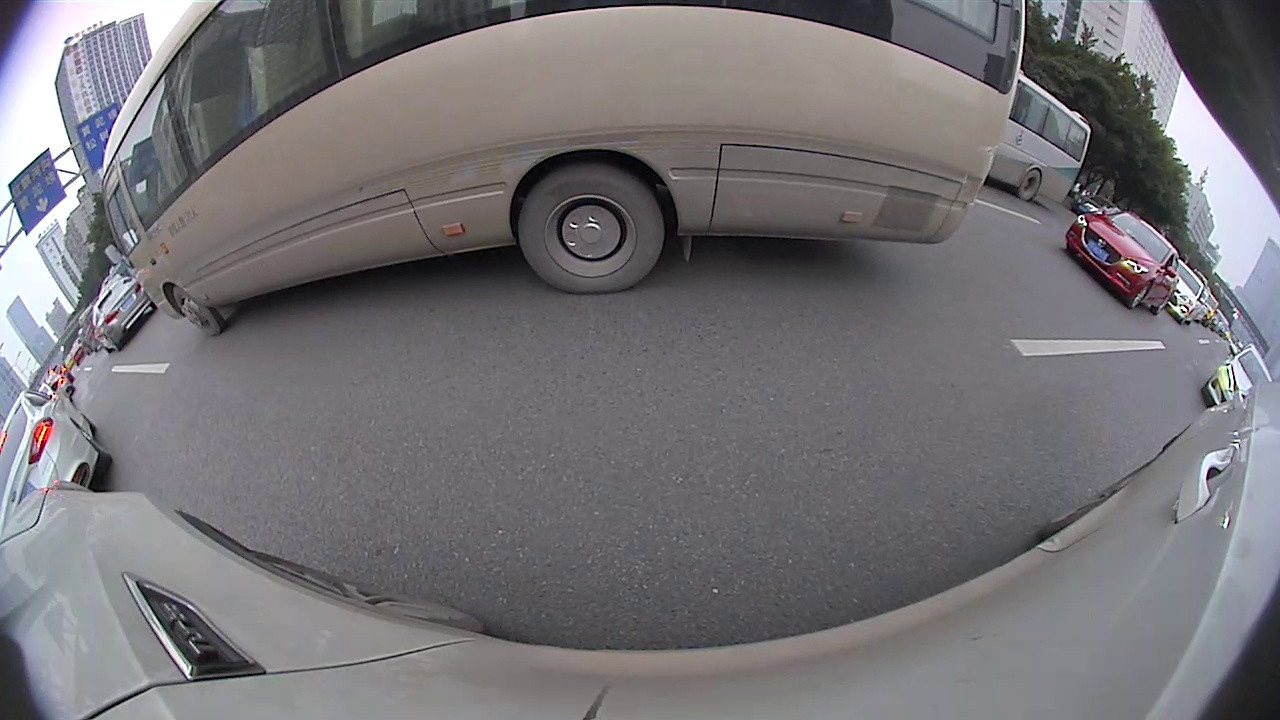bus: (97, 1, 1027, 341), (978, 79, 1089, 209)
car: (2, 390, 109, 527), (1067, 206, 1178, 317), (1206, 346, 1270, 421), (92, 272, 153, 350)
front: (169, 284, 221, 336), (1126, 283, 1154, 306)
rear: (519, 164, 666, 295), (1018, 169, 1039, 199)
